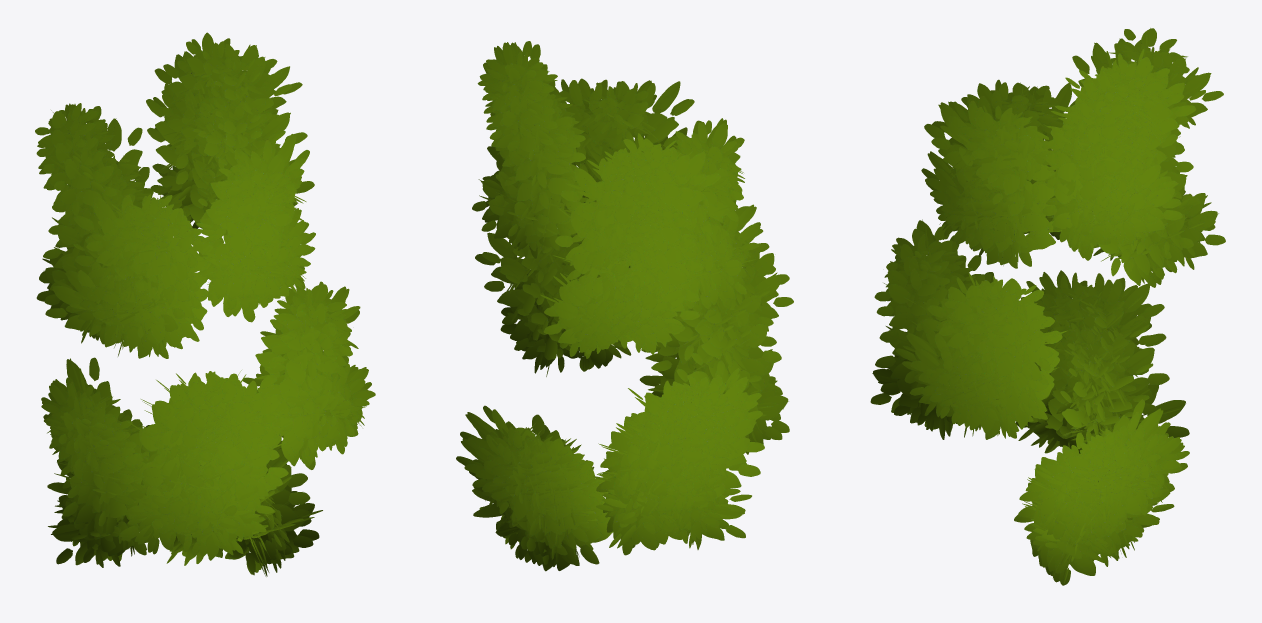
Rendered from commontree-3.glb.
3 views of the same model, side by side, from view 1: azimuth 30°, elevation 25°; view 2: azimuth 150°, elevation 25°; view 3: azimuth 270°, elevation 25° (orthographic).
Parts seen in each view (by area): view 1: CommonTree_3; view 2: CommonTree_3; view 3: CommonTree_3.
Boxes of the visible parts, box(x1,y1,x2,y2) form: CommonTree_3: box(35, 32, 375, 576); CommonTree_3: box(456, 41, 793, 571); CommonTree_3: box(870, 28, 1225, 585).
Bounding box in the file's own units: 4.06 × 6.61 × 4.24.
1 material, 1 textured.
